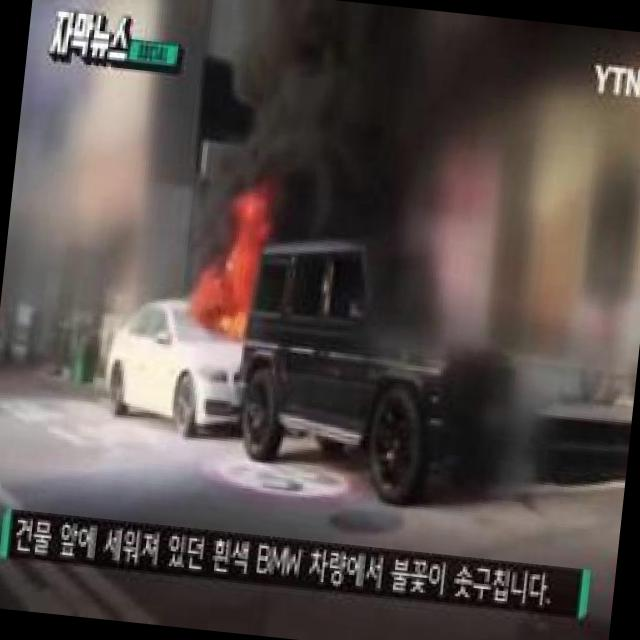Fire: (199, 276, 254, 348)
